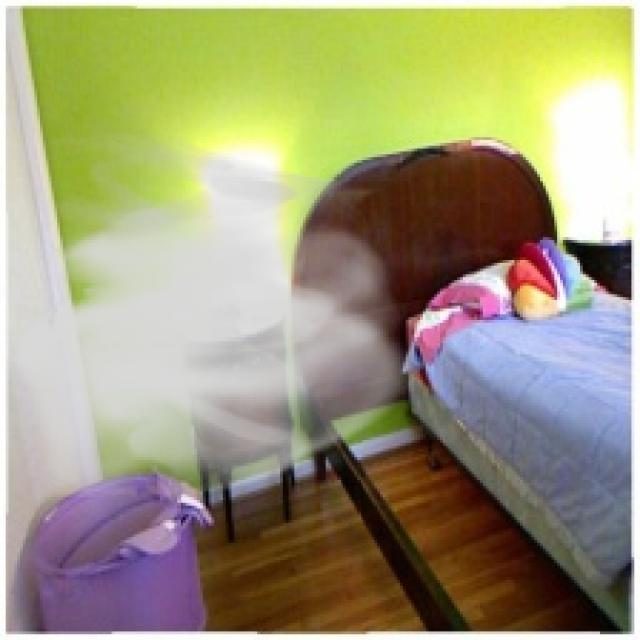Smoke: (8, 128, 423, 508)
